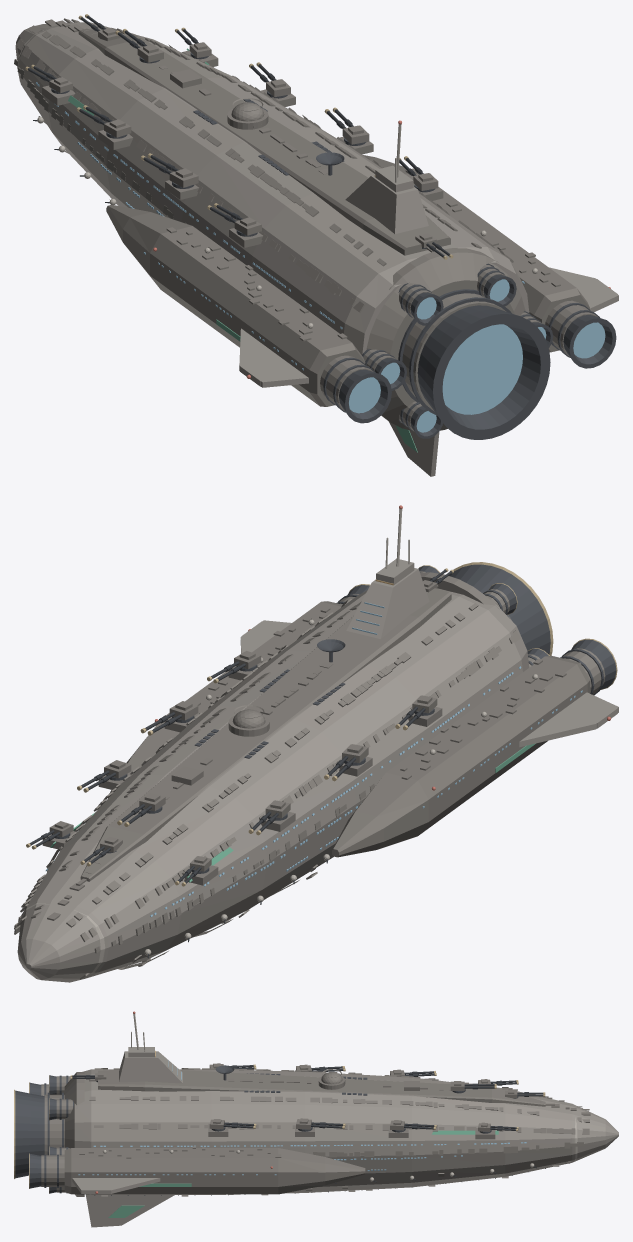
The model's file is bane-sentinel.glb.
The picture shows the model from 3 angles, top to bottom: view 1: azimuth 30°, elevation 25°; view 2: azimuth 150°, elevation 25°; view 3: azimuth 270°, elevation 25°; orthographic projection. The views are drawn at different scales.
Parts seen in each view (by area): view 1: main_hull_000, pod_000, engine_bell_000, upper_deck_000, hull_plate_000, engine_glow_000, drive_mount_000, engine_housing_000, turret_housing_000, stern_fin_000, tower_000, engine_band_000 (+5 smaller); view 2: main_hull_000, pod_000, upper_deck_000, hull_plate_000, engine_bell_000, tower_000, turret_housing_000, stern_fin_000, ion_barrel_000, outrigger_000, window_000, engine_housing_000 (+4 smaller); view 3: main_hull_000, pod_000, upper_deck_000, hull_plate_000, engine_bell_000, engine_housing_000, tower_000, ventral_fin_000, ion_barrel_000, turret_housing_000, stern_fin_000, drive_mount_000 (+5 smaller).
Boxes of the visible parts, x1,y1,x2,y2 form: main_hull_000: (15, 22, 529, 354); pod_000: (106, 154, 589, 406); engine_bell_000: (339, 274, 616, 439); upper_deck_000: (78, 28, 450, 255); hull_plate_000: (14, 18, 560, 341); engine_glow_000: (349, 279, 605, 432); drive_mount_000: (366, 248, 525, 430); engine_housing_000: (320, 265, 597, 431); turret_housing_000: (49, 27, 438, 247); stern_fin_000: (239, 267, 618, 387); tower_000: (345, 165, 428, 233); engine_band_000: (323, 263, 599, 431); main_hull_000: (17, 588, 529, 982); pod_000: (108, 601, 589, 857); upper_deck_000: (80, 588, 451, 881); hull_plate_000: (14, 585, 566, 979); engine_bell_000: (347, 564, 616, 689); tower_000: (346, 559, 429, 638); turret_housing_000: (49, 580, 437, 871); stern_fin_000: (240, 620, 618, 747); ion_barrel_000: (29, 569, 452, 883); outrigger_000: (42, 663, 442, 885); window_000: (45, 602, 582, 916); engine_housing_000: (339, 571, 605, 694); main_hull_000: (74, 1069, 618, 1194); pod_000: (64, 1148, 365, 1194); upper_deck_000: (98, 1069, 545, 1106); hull_plate_000: (79, 1068, 590, 1194); engine_bell_000: (15, 1075, 56, 1193); engine_housing_000: (41, 1076, 72, 1192); tower_000: (119, 1047, 182, 1083); ventral_fin_000: (85, 1194, 174, 1227); ion_barrel_000: (72, 1065, 543, 1130); turret_housing_000: (95, 1063, 517, 1131); stern_fin_000: (72, 1178, 160, 1193); drive_mount_000: (64, 1072, 84, 1196).
Size of the model in its own units: 4.08 by 3.56 by 9.06.
